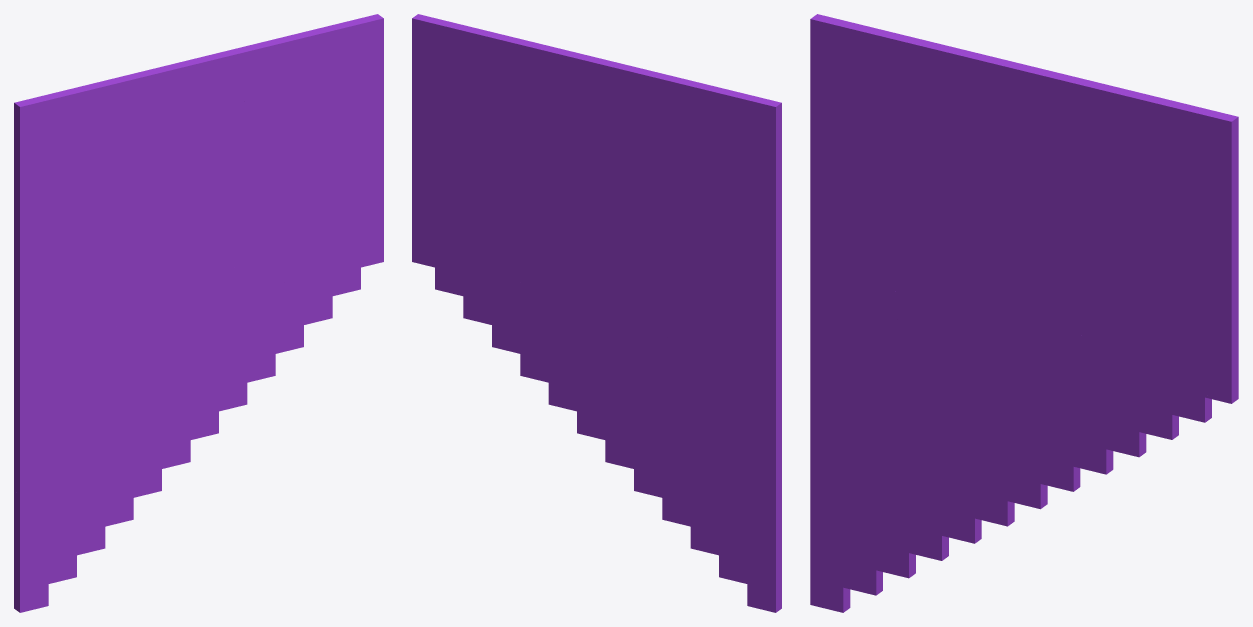
File: Glass_102_chunks.fbx
The picture shows the model from 3 angles, left to right: view 1: azimuth 30°, elevation 25°; view 2: azimuth 150°, elevation 25°; view 3: azimuth 330°, elevation 25°; orthographic projection. The views are drawn at different scales.
Parts seen in each view (by area): view 1: Glass_102_19, Glass_102_23, Glass_102_18, Glass_102_22, Glass_102_20, Glass_102_6, Glass_102_24, Glass_102_2, Glass_102_1, Glass_102_7, Glass_102_12, Glass_102_26 (+11 smaller); view 2: Glass_102_23, Glass_102_17, Glass_102_6, Glass_102_18, Glass_102_12, Glass_102_22, Glass_102_2, Glass_102_21, Glass_102_20, Glass_102_26, Glass_102_1, Glass_102_24 (+13 smaller); view 3: Glass_102_19, Glass_102_23, Glass_102_22, Glass_102_18, Glass_102_20, Glass_102_6, Glass_102_2, Glass_102_1, Glass_102_7, Glass_102_24, Glass_102_12, Glass_102_26 (+11 smaller).
Part boxes in pixels (box(x1,y1,x2,y2)): Glass_102_19: box(81, 52, 233, 210); Glass_102_23: box(227, 14, 383, 193); Glass_102_18: box(77, 190, 218, 321); Glass_102_22: box(300, 74, 383, 269); Glass_102_20: box(213, 80, 302, 256); Glass_102_6: box(14, 457, 105, 612); Glass_102_24: box(14, 97, 76, 248); Glass_102_2: box(113, 384, 233, 524); Glass_102_1: box(216, 255, 383, 407); Glass_102_7: box(81, 354, 157, 546); Glass_102_12: box(14, 236, 107, 356); Glass_102_26: box(30, 194, 126, 290); Glass_102_23: box(412, 14, 568, 209); Glass_102_17: box(563, 54, 684, 211); Glass_102_6: box(687, 431, 781, 612); Glass_102_18: box(579, 197, 718, 323); Glass_102_12: box(674, 236, 781, 369); Glass_102_22: box(412, 92, 489, 265); Glass_102_2: box(560, 384, 684, 524); Glass_102_21: box(436, 208, 568, 294); Glass_102_20: box(505, 109, 583, 253); Glass_102_26: box(668, 192, 768, 291); Glass_102_1: box(412, 254, 550, 386); Glass_102_24: box(730, 94, 781, 246); Glass_102_19: box(881, 33, 1061, 224); Glass_102_23: box(1054, 74, 1238, 279); Glass_102_22: box(1134, 186, 1238, 395); Glass_102_18: box(876, 200, 1040, 318); Glass_102_20: box(1034, 107, 1137, 314); Glass_102_6: box(810, 459, 915, 612); Glass_102_2: box(915, 431, 1057, 573); Glass_102_1: box(1038, 390, 1238, 491); Glass_102_7: box(881, 377, 969, 576); Glass_102_24: box(810, 14, 876, 188); Glass_102_12: box(810, 174, 912, 332); Glass_102_26: box(822, 152, 933, 263).
Size of the model in its own units: 957 by 1273 by 27.2.
